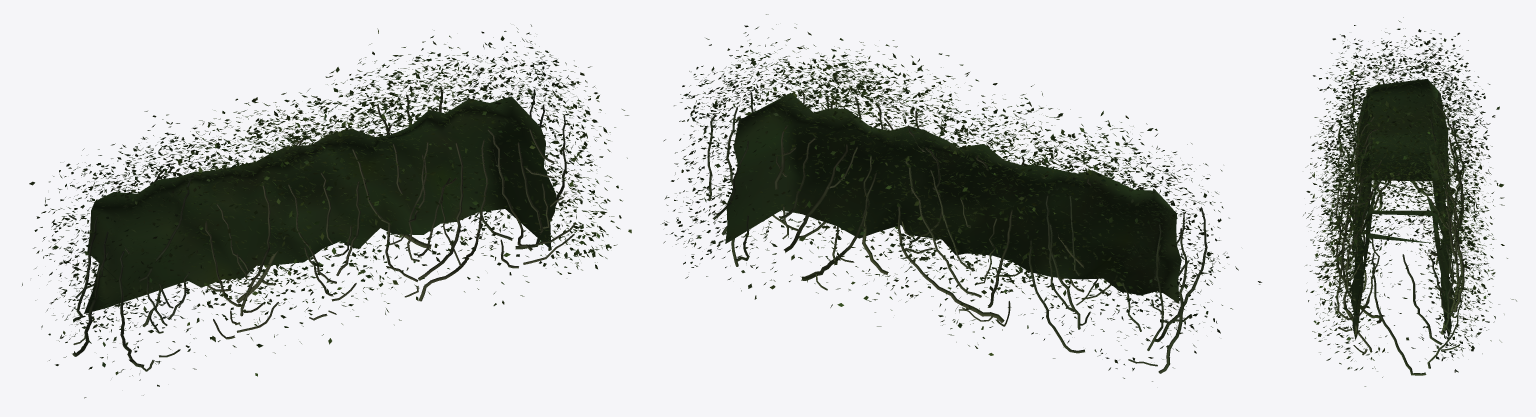
Rendered from SM_Tree_hedge_2.glb.
3 views of the same model, side by side, from view 1: azimuth 30°, elevation 25°; view 2: azimuth 150°, elevation 25°; view 3: azimuth 270°, elevation 25° (orthographic). The views are drawn at different scales.
Parts seen in each view (by area): view 1: SM_Tree_hedge_2; view 2: SM_Tree_hedge_2; view 3: SM_Tree_hedge_2.
Part boxes in pixels (left/top/right/bottom): SM_Tree_hedge_2: left=22, top=24, right=631, bottom=398; SM_Tree_hedge_2: left=662, top=14, right=1261, bottom=381; SM_Tree_hedge_2: left=1303, top=17, right=1516, bottom=386.
Size of the model in its own units: 4.81 by 2.23 by 2.1.
